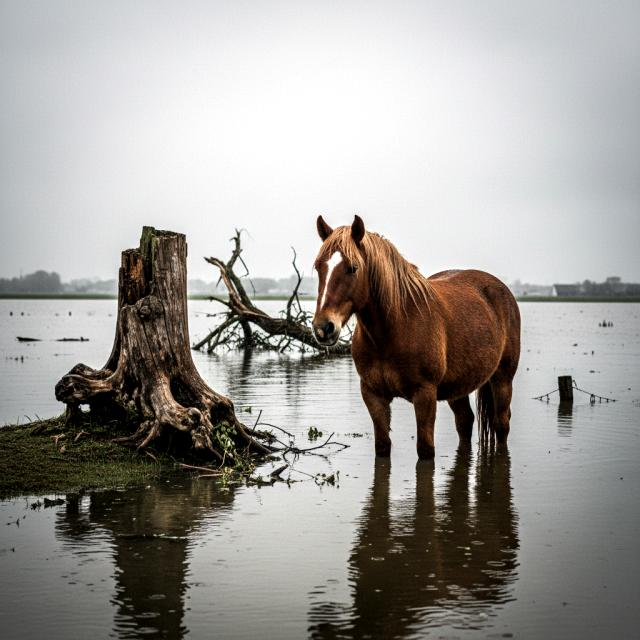horse: (288, 198, 554, 478)
